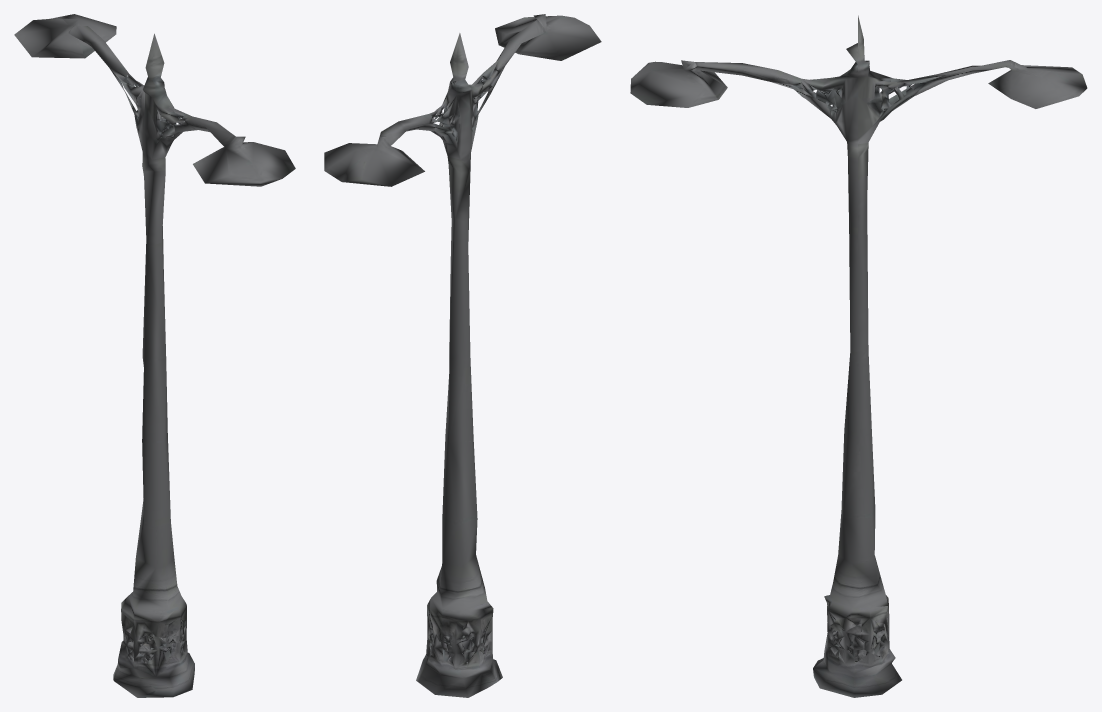
File: lamp.glb
3 renders of one model, left to right at view 1: azimuth 30°, elevation 25°; view 2: azimuth 150°, elevation 25°; view 3: azimuth 270°, elevation 25°, orthographic. The views are drawn at different scales.
Parts seen in each view (by area): view 1: tripo_node_735d1cfc-7673-4b84-aa6a-fbda22307100; view 2: tripo_node_735d1cfc-7673-4b84-aa6a-fbda22307100; view 3: tripo_node_735d1cfc-7673-4b84-aa6a-fbda22307100.
Boxes of the visible parts, bbox=[...] form: tripo_node_735d1cfc-7673-4b84-aa6a-fbda22307100: bbox=[14, 14, 295, 697]; tripo_node_735d1cfc-7673-4b84-aa6a-fbda22307100: bbox=[324, 14, 601, 697]; tripo_node_735d1cfc-7673-4b84-aa6a-fbda22307100: bbox=[630, 15, 1087, 697].
Bounding box in the file's own units: 0.1529 × 0.9998 × 0.6229.
1 material, 1 textured.
